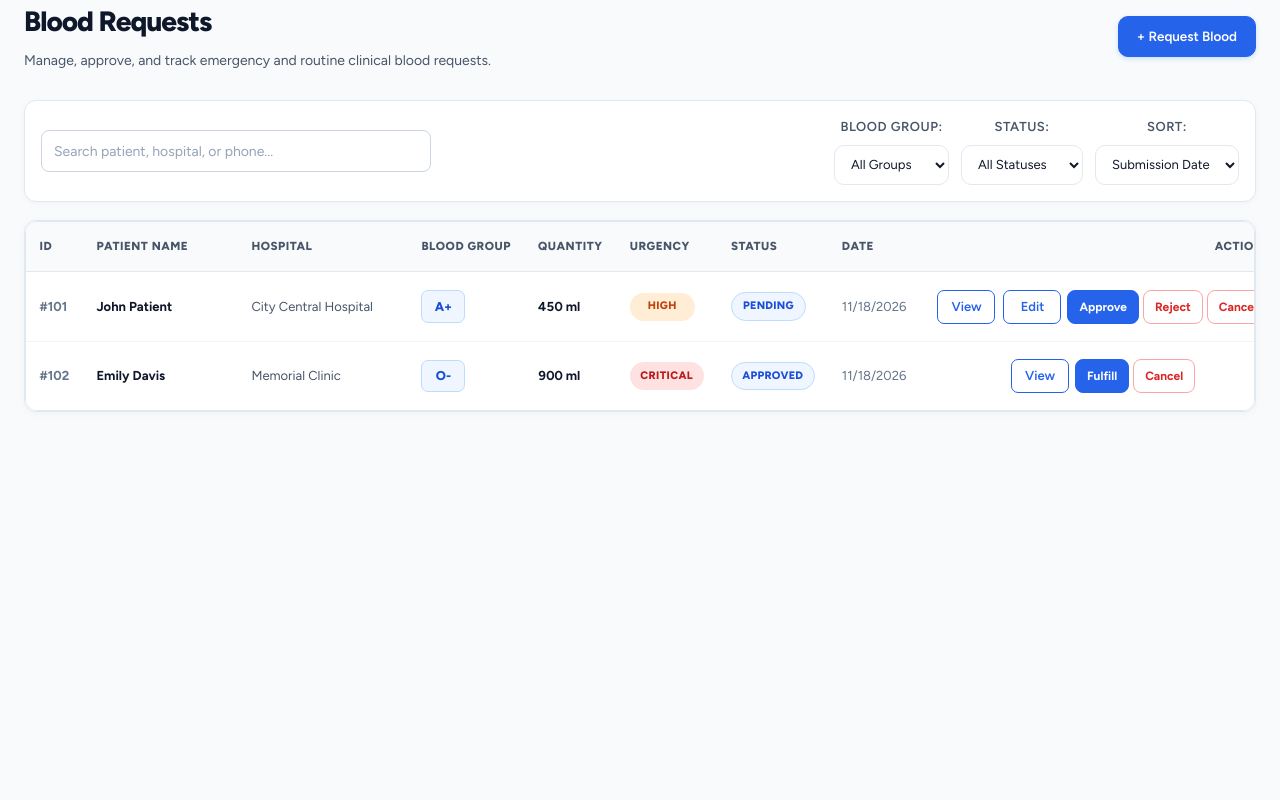
BloodRequests Page Component › allows staff to fulfill an approved request
Click the button with test id "btn-fulfill-102": (1102,376) [1075, 359, 1129, 393]
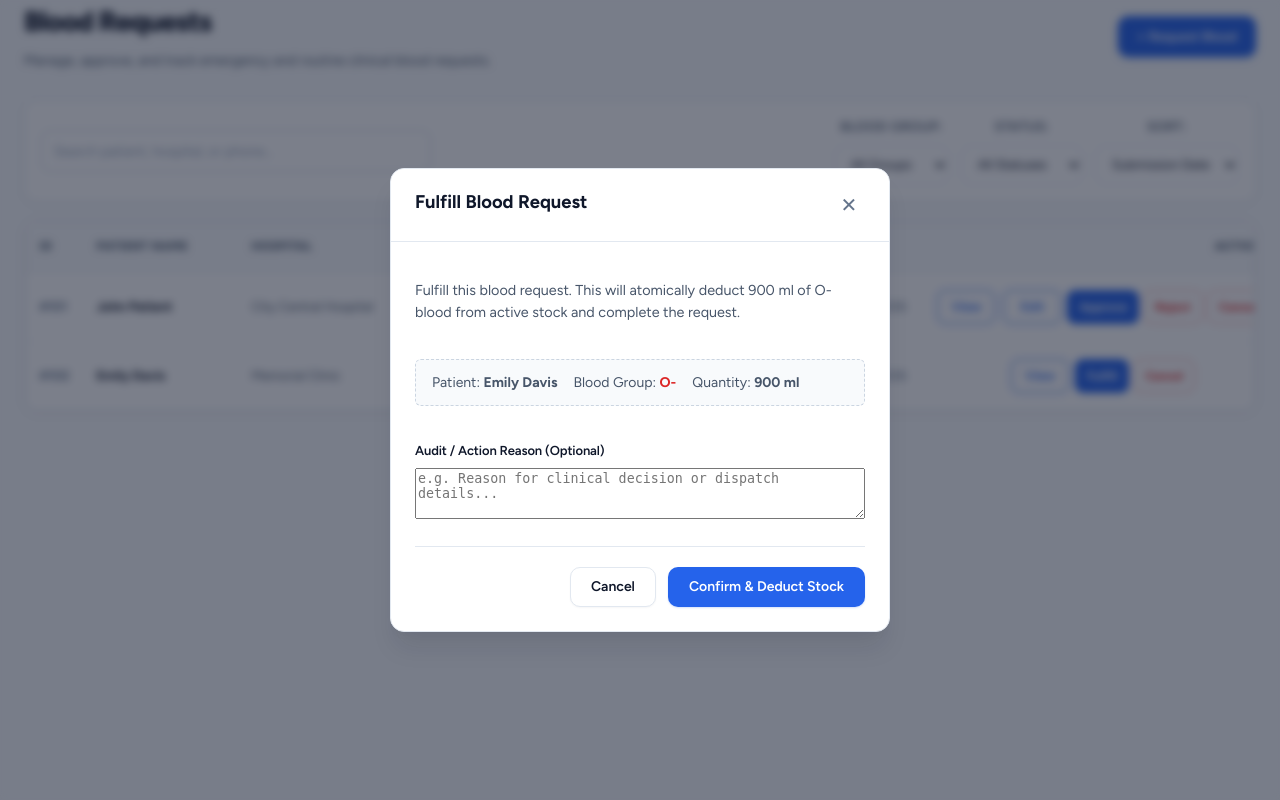
Expected: the dialog with test id "status-modal" is shown, [390, 168, 890, 632]
Click the button with test id "btn-confirm-status-action": (766,587) [668, 567, 865, 607]
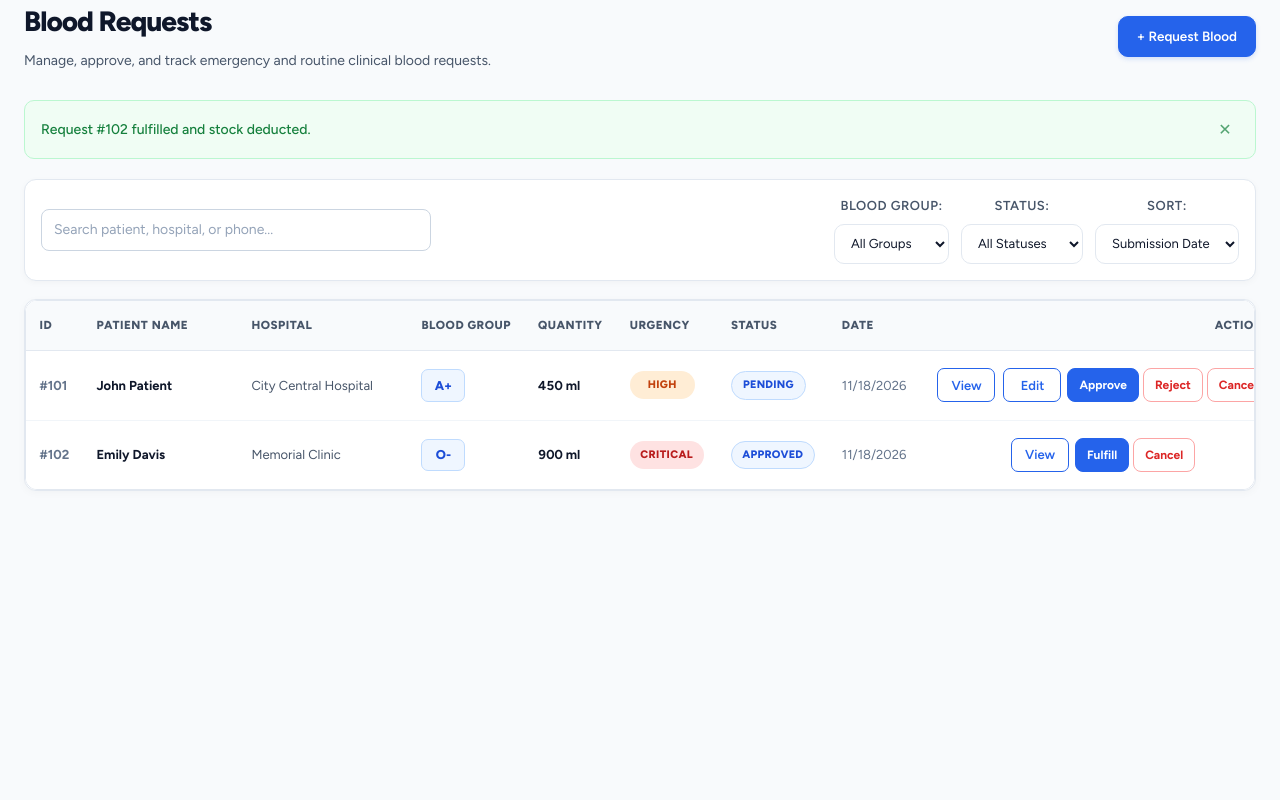
Expected: the element with test id "feedback-banner" shows "Request #102 fulfilled and stock deducted", [41, 121, 311, 138]
